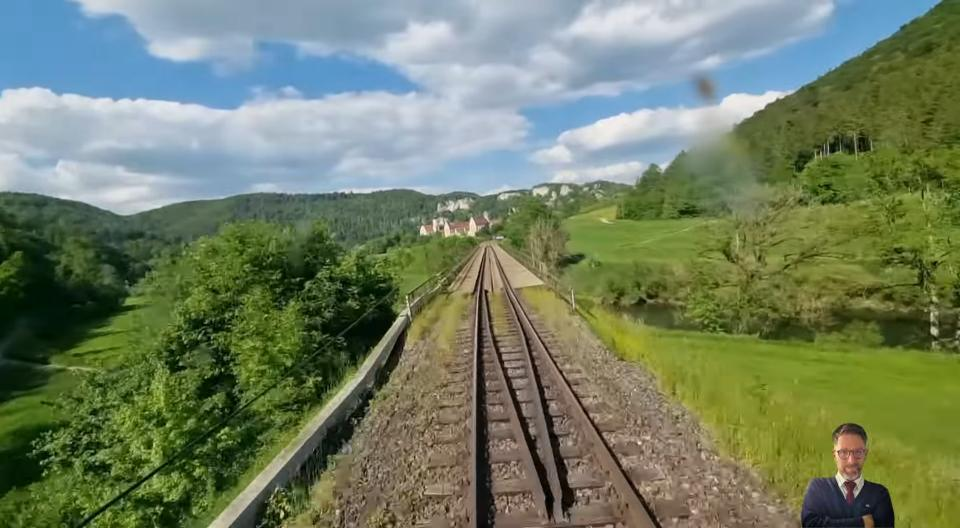Plant: (256, 455, 336, 528), (406, 291, 471, 361), (519, 287, 580, 352), (488, 292, 512, 351)
